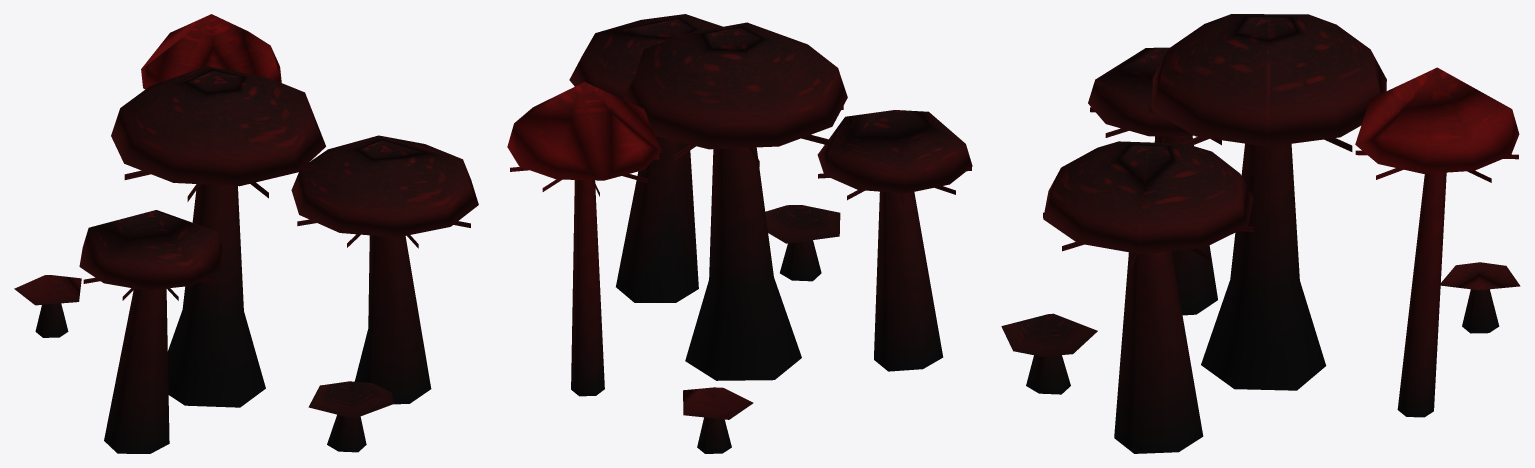
Rendered from plant_forest_mushroom_cluster_a_lod2.glb.
3 views of the same model, side by side, from view 1: azimuth 30°, elevation 25°; view 2: azimuth 150°, elevation 25°; view 3: azimuth 270°, elevation 25° (orthographic). The views are drawn at different scales.
Visible parts, largest first — view 1: plant_forest_mushroom_cluster_a; view 2: plant_forest_mushroom_cluster_a; view 3: plant_forest_mushroom_cluster_a.
Part boxes in pixels (x1,y1,x2,y2): plant_forest_mushroom_cluster_a: (14,14,478,453); plant_forest_mushroom_cluster_a: (507,14,972,453); plant_forest_mushroom_cluster_a: (1001,14,1520,453).
Bounding box in the file's own units: 0.4484 × 0.3602 × 0.4828.
1 material, 1 textured.
